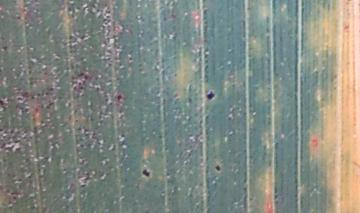tarspot: (140, 166, 152, 178), (205, 88, 215, 102), (212, 163, 223, 173), (115, 92, 123, 101), (15, 14, 23, 20), (49, 85, 55, 93), (2, 45, 9, 51), (1, 99, 5, 107)
